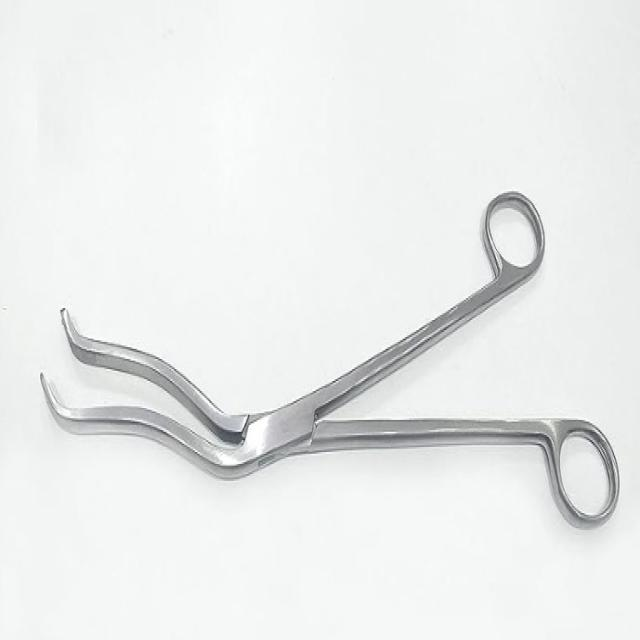Cheatle Forceps: (40, 186, 620, 534)
